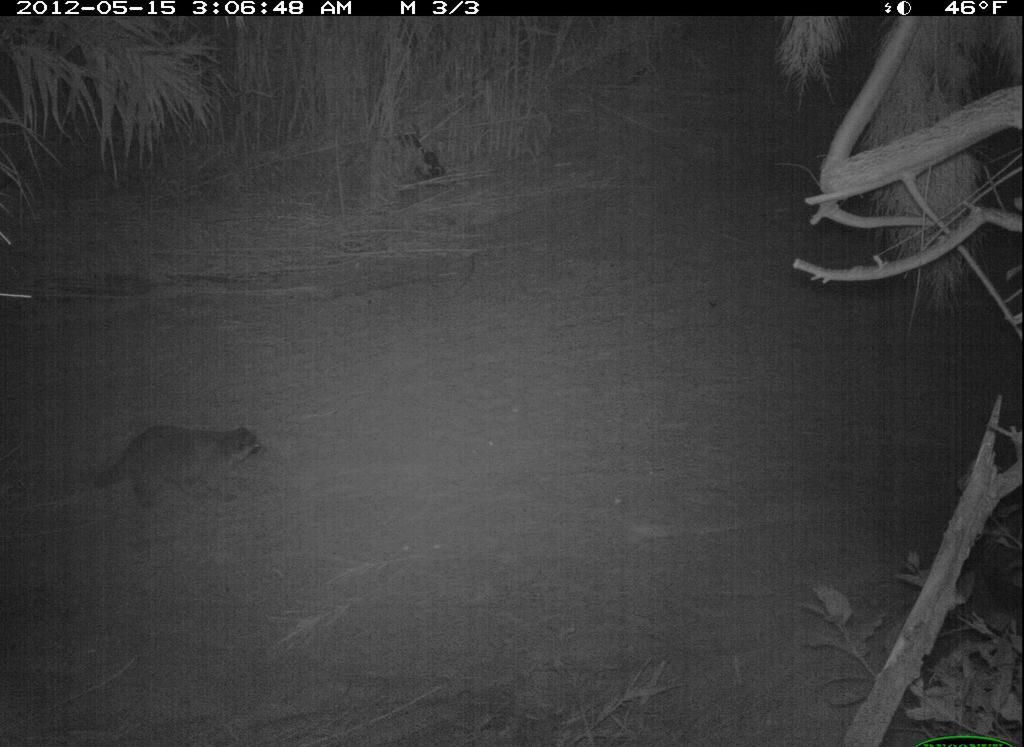raccoon: (77, 419, 271, 515)
